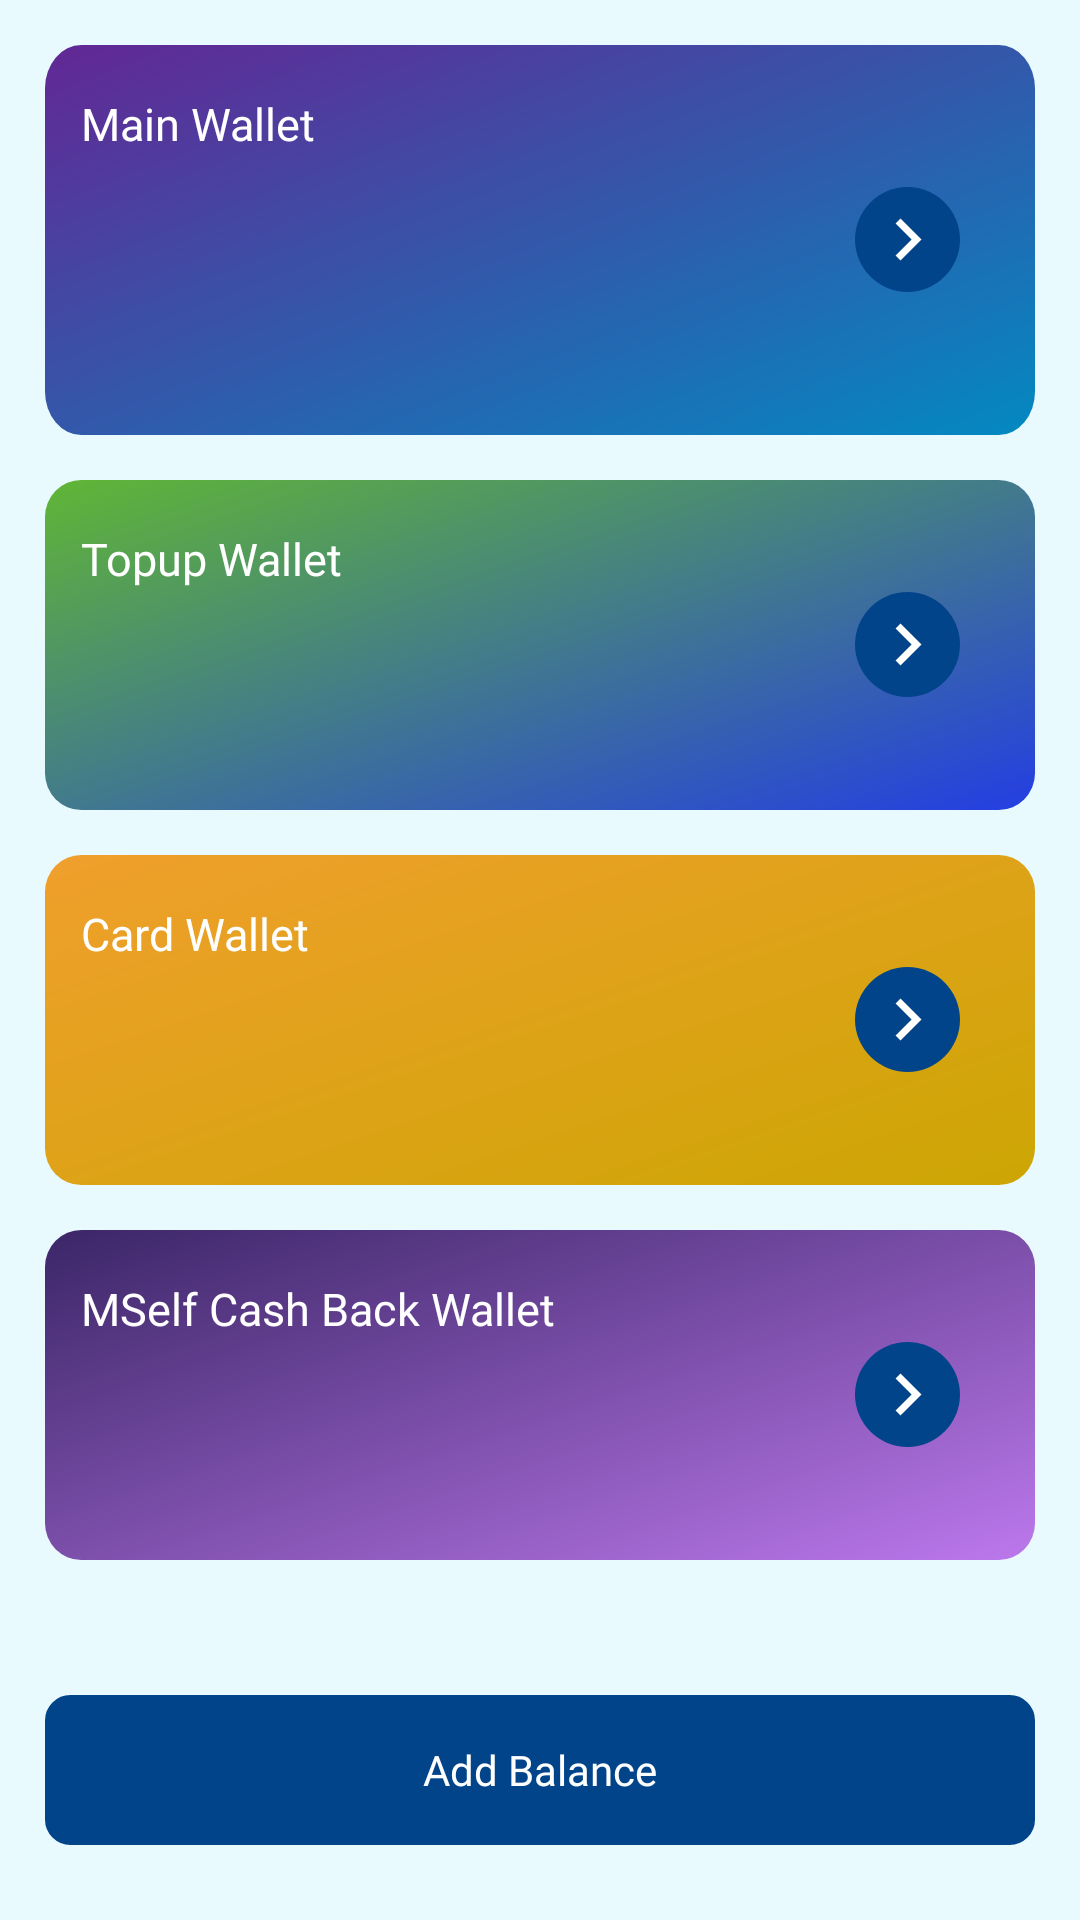

Screen size 1080x1920. Icon name, then its center in pixels as (x,y):
view all: (907,239), (907,644), (907,1019), (907,1394)
